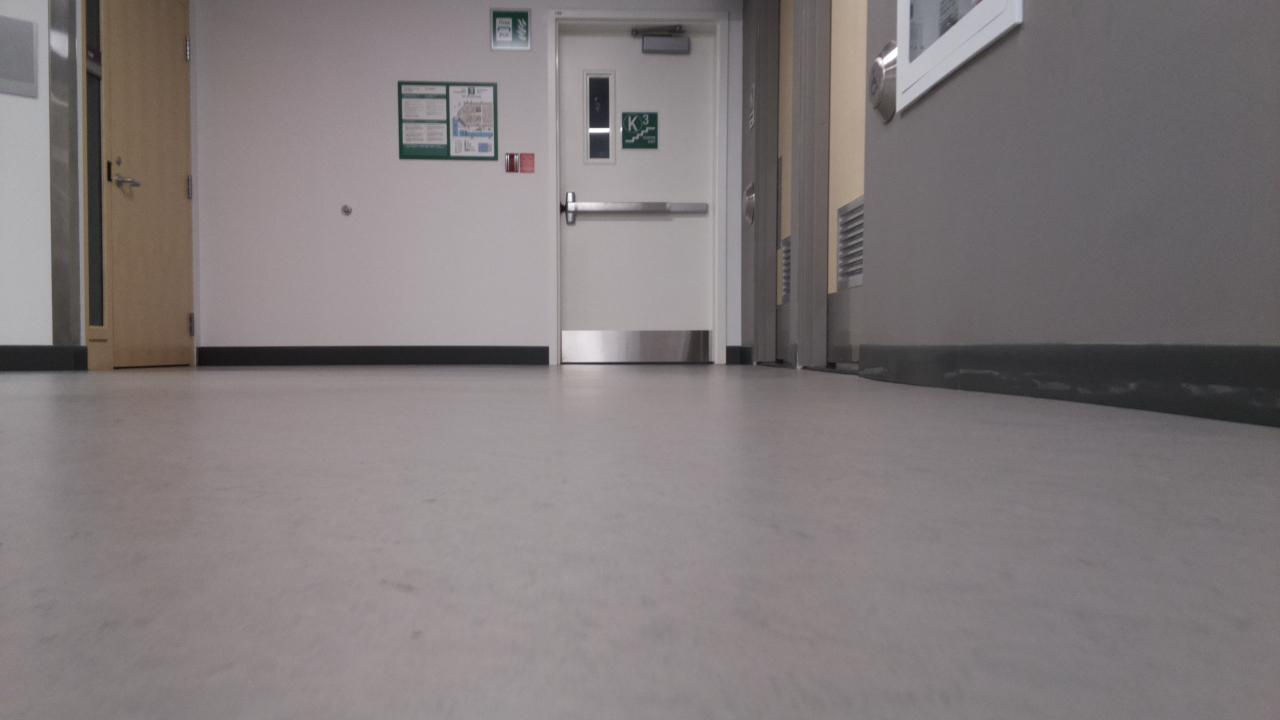door: (560, 32, 715, 364)
sign: (398, 82, 496, 159), (491, 10, 529, 48), (621, 111, 658, 150)
